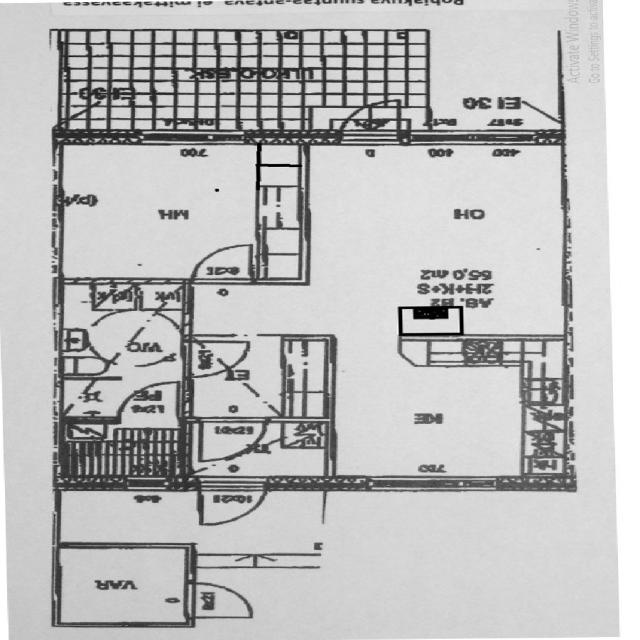door: (182, 336, 316, 415), (194, 478, 268, 530), (191, 416, 272, 463), (182, 580, 260, 620), (181, 338, 250, 378), (190, 241, 256, 282), (336, 117, 406, 149)
window: (407, 127, 540, 153), (357, 472, 500, 496), (44, 146, 70, 194)
zone: (297, 141, 570, 336), (320, 340, 566, 489), (50, 139, 278, 284), (55, 284, 188, 422), (184, 335, 334, 421), (54, 544, 189, 628), (178, 417, 338, 483), (61, 419, 188, 480)
